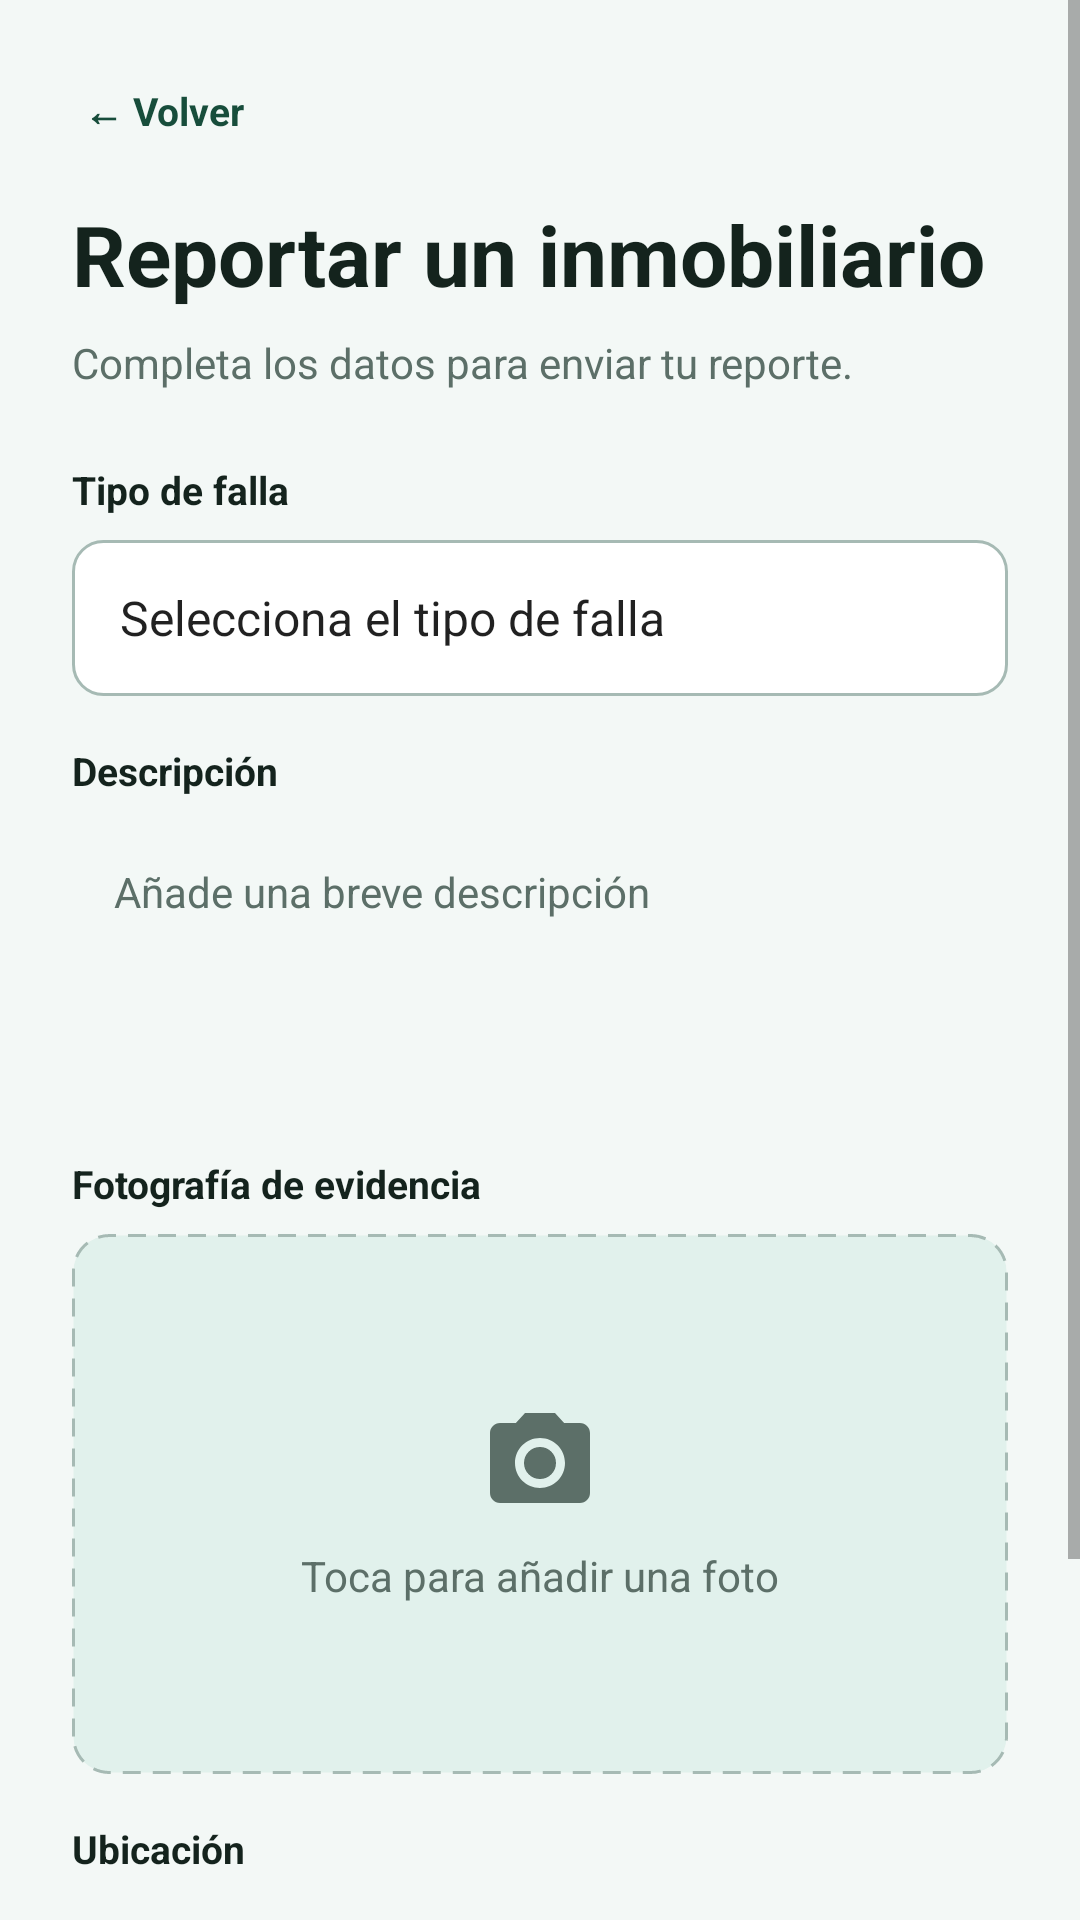

Where icons sit on this 1080w x 1920h app screen, as (x1, y1, x2, y2):
camara: (490, 1413, 590, 1503)
